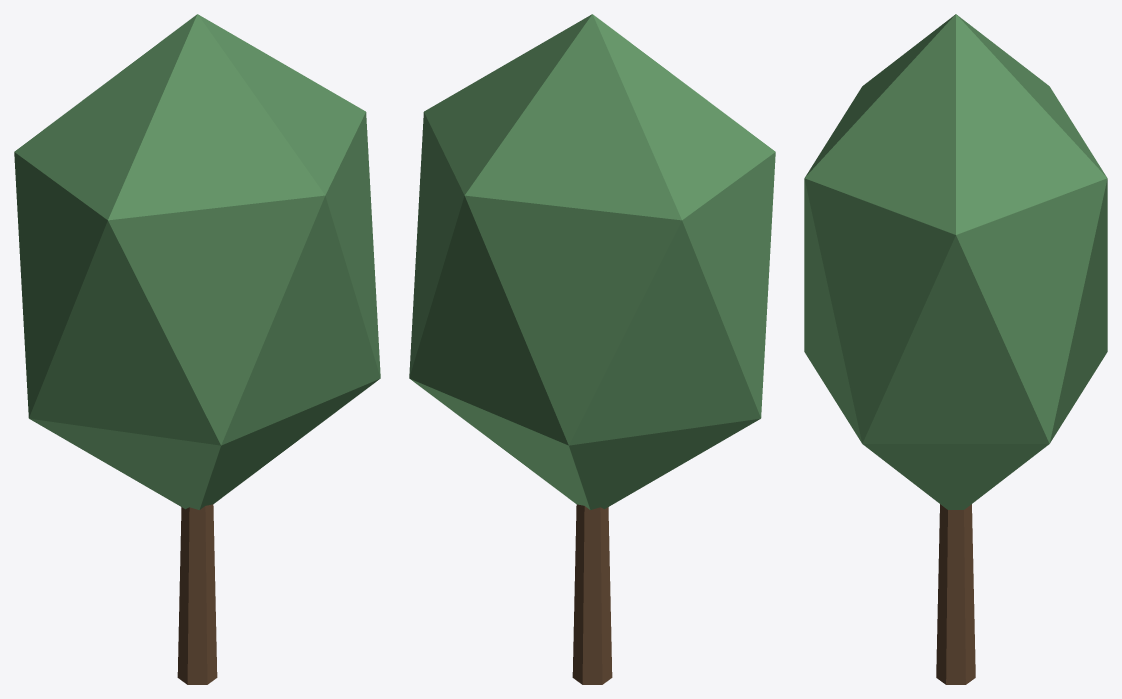
Rendered from far_tree_2.fbx.
3 views of the same model, side by side, from view 1: azimuth 30°, elevation 25°; view 2: azimuth 150°, elevation 25°; view 3: azimuth 270°, elevation 25° (orthographic).
Parts seen in each view (by area): view 1: far_tree_2; view 2: far_tree_2; view 3: far_tree_2.
Part boxes in pixels (box(x1,y1,x2,y2)): far_tree_2: box(14, 14, 380, 684); far_tree_2: box(409, 14, 775, 684); far_tree_2: box(804, 14, 1107, 684).
Size of the model in its own units: 394 by 740 by 306.
